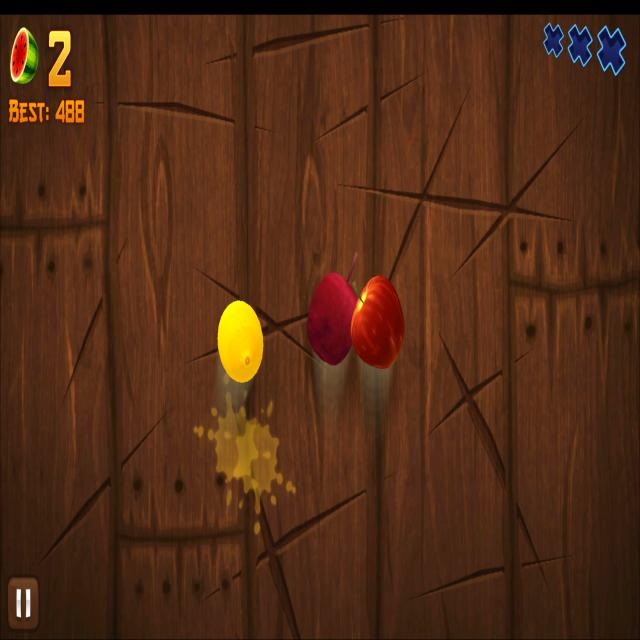fruit: (352, 276, 403, 369), (308, 274, 358, 365), (218, 299, 264, 383)
